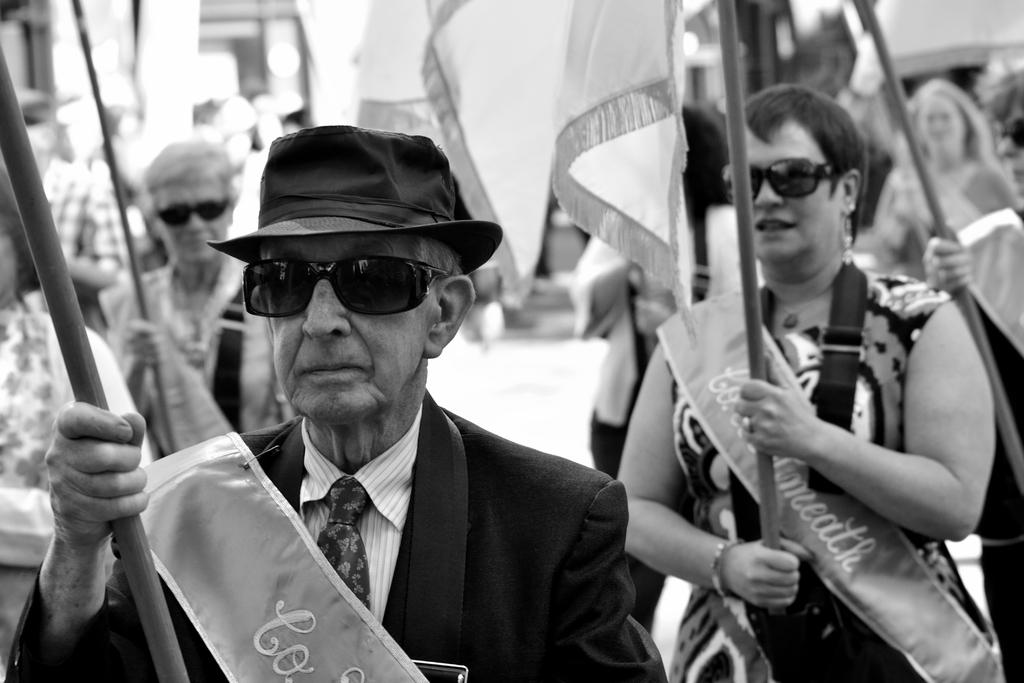Hat: (210, 123, 502, 278)
